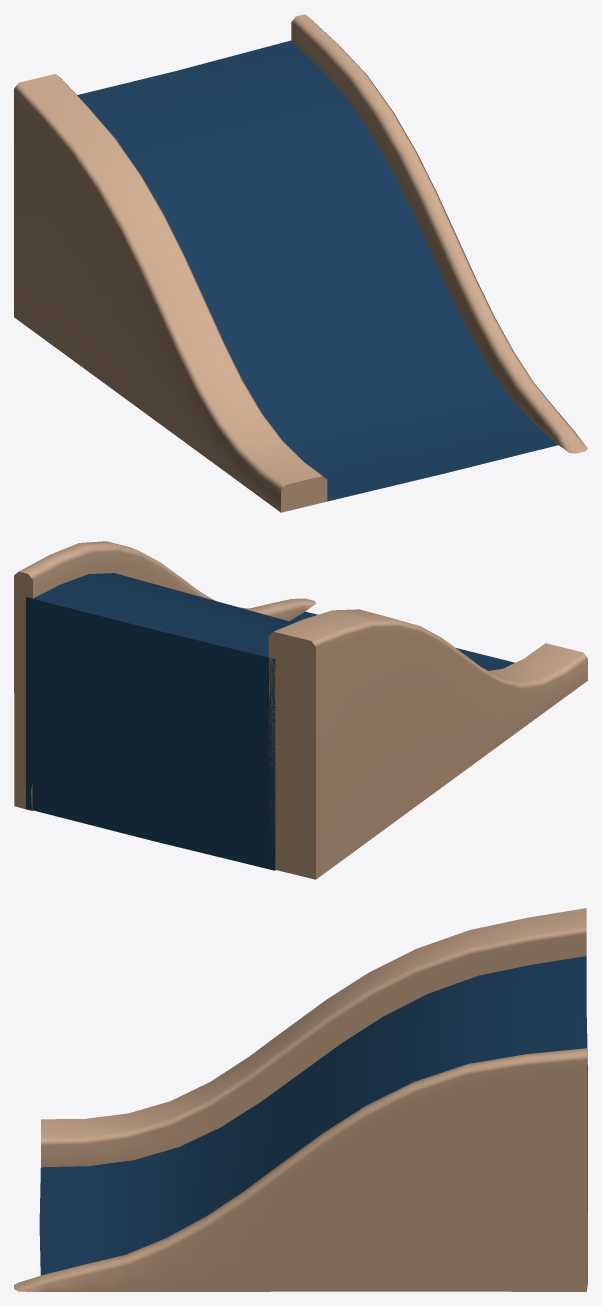
The model's file is PokemonMonster_Landing_RoadStraight2.fbx.
3 renders of one model, top to bottom at view 1: azimuth 30°, elevation 25°; view 2: azimuth 150°, elevation 25°; view 3: azimuth 270°, elevation 25°, orthographic. The views are drawn at different scales.
Visible parts, largest first — view 1: polySurface1, polySurface2, polySurface3; view 2: polySurface1, polySurface2, polySurface3; view 3: polySurface3, polySurface1, polySurface2.
Boxes of the visible parts, bbox=[...] form: polySurface1: bbox=[77, 40, 558, 501]; polySurface2: bbox=[14, 74, 327, 512]; polySurface3: bbox=[291, 14, 587, 453]; polySurface1: bbox=[26, 573, 514, 870]; polySurface2: bbox=[268, 609, 587, 879]; polySurface3: bbox=[14, 541, 315, 810]; polySurface3: bbox=[14, 1048, 587, 1291]; polySurface1: bbox=[39, 956, 587, 1275]; polySurface2: bbox=[41, 908, 586, 1167].
Size of the model in its own units: 321 by 242 by 526.
1 material, 1 textured.
